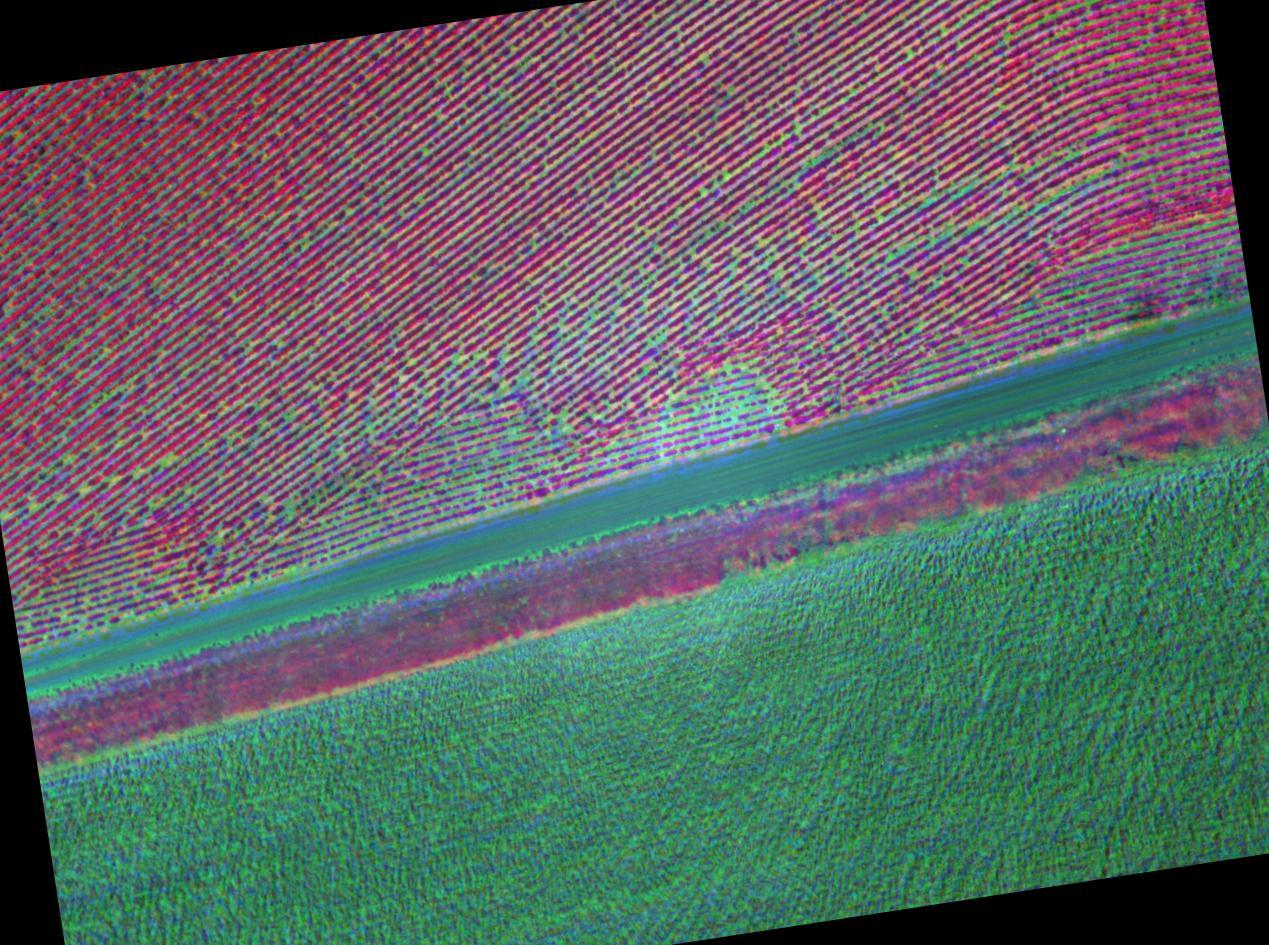dc: (161, 460, 166, 466), (725, 366, 730, 371), (424, 149, 428, 155), (563, 428, 569, 432), (926, 200, 931, 204), (32, 508, 36, 512)
